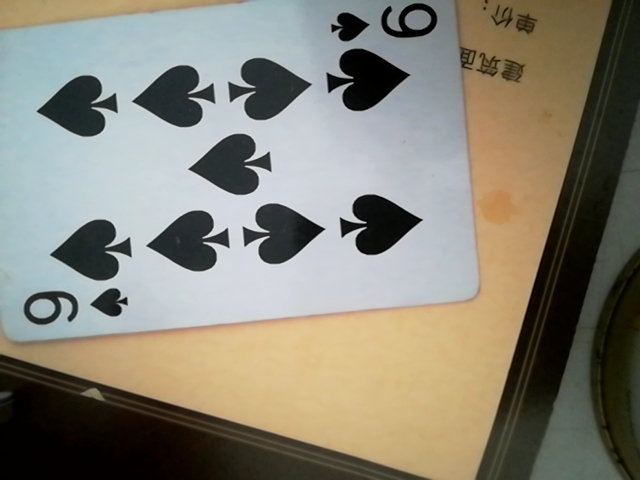ht 9: (0, 0, 479, 357)
